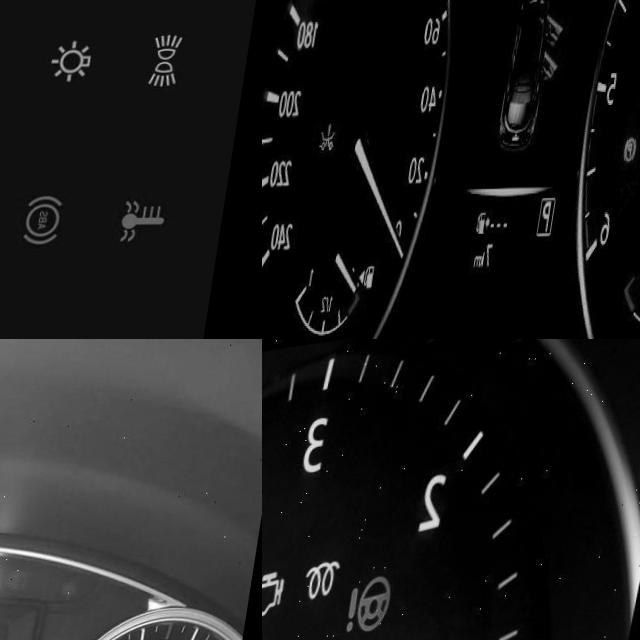Electronic Power Steering Warning: (352, 575, 403, 639)
High Engine Coolant Temperature: (125, 195, 185, 249)
